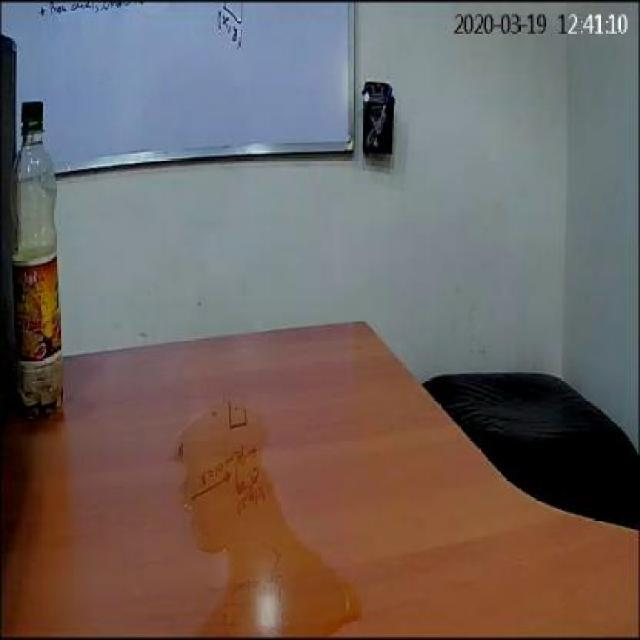spill: (173, 400, 361, 636)
